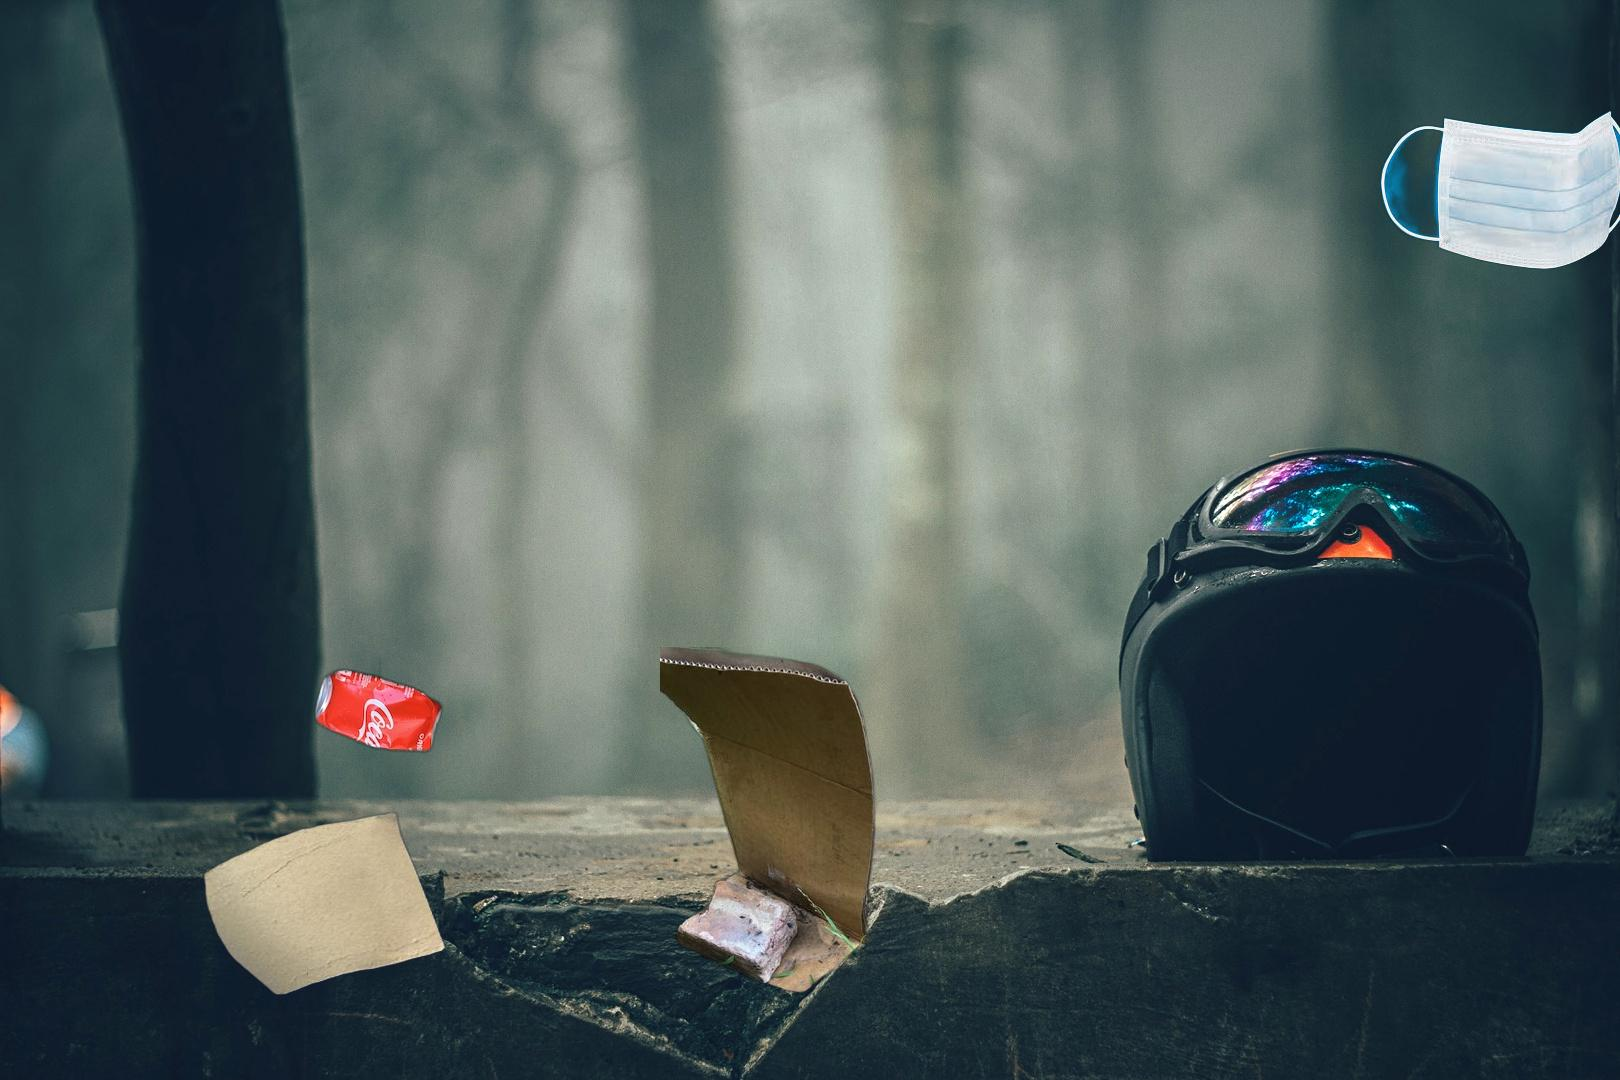metal-cans: (310, 651, 446, 758)
paper: (200, 809, 450, 998)
trash: (1377, 105, 1620, 272)
trashbox-cardboard: (661, 647, 877, 1074)
